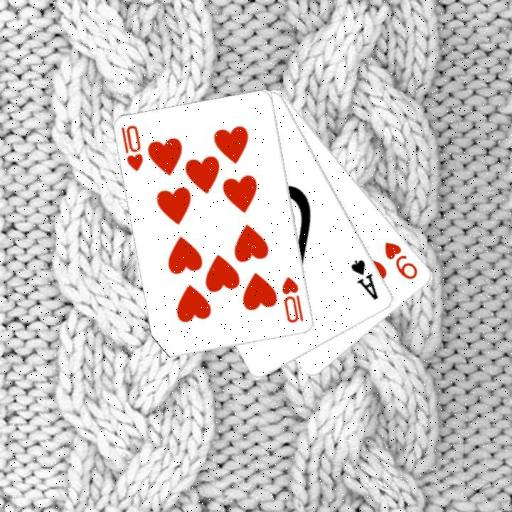10H: (279, 274, 306, 325), (118, 123, 145, 174)
9H: (381, 238, 420, 282)
AS: (348, 256, 380, 302)
